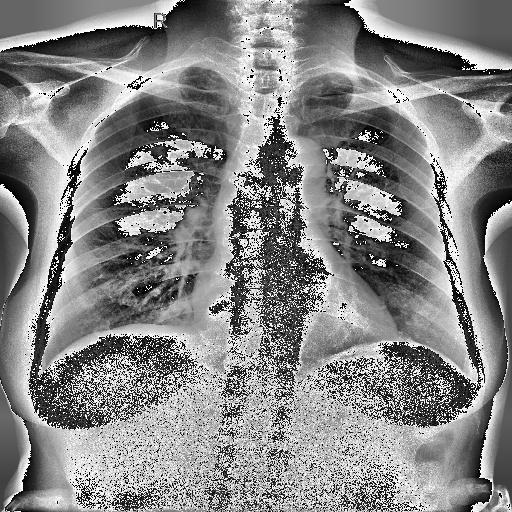0- Aortic enlargement: (260, 134, 327, 197), (280, 136, 326, 192), (273, 136, 325, 182)
8- Nodule-Mass: (148, 146, 172, 160), (150, 146, 171, 161), (150, 146, 171, 158)
9- Other lesion: (150, 146, 171, 158)
